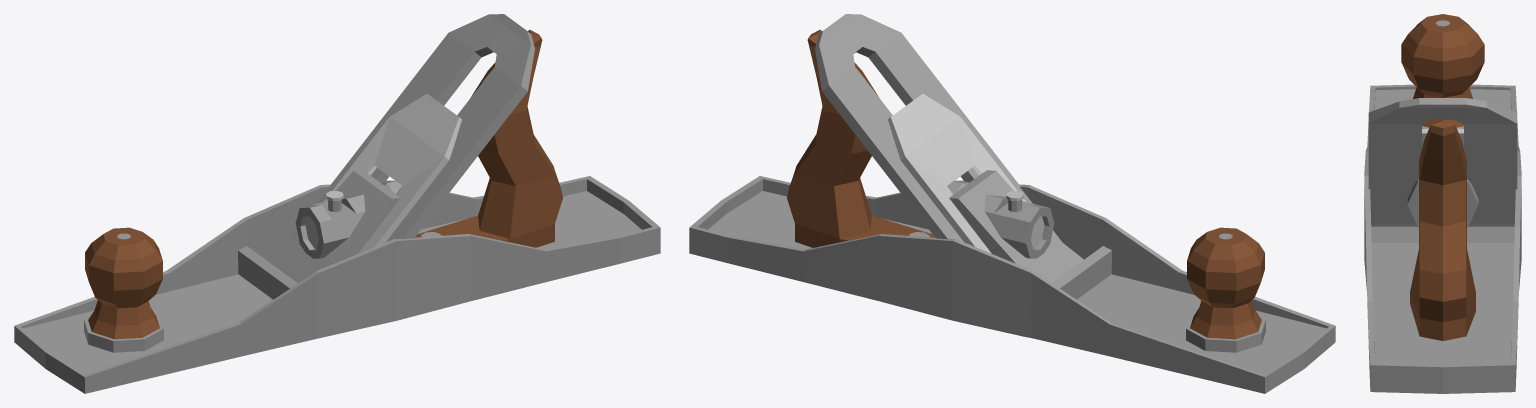
File: planer01.gltf
3 views of the same model, side by side, from view 1: azimuth 30°, elevation 25°; view 2: azimuth 150°, elevation 25°; view 3: azimuth 270°, elevation 25° (orthographic). The views are drawn at different scales.
Parts seen in each view (by area): view 1: Cylinder; view 2: Cylinder; view 3: Cylinder.
Part boxes in pixels (x1,y1,x2,y2): Cylinder: [14, 14, 660, 393]; Cylinder: [689, 14, 1335, 393]; Cylinder: [1364, 14, 1521, 393].
Size of the model in its own units: 0.2948 by 0.1124 by 0.067.
Materials: 1 (1 with a texture image).
